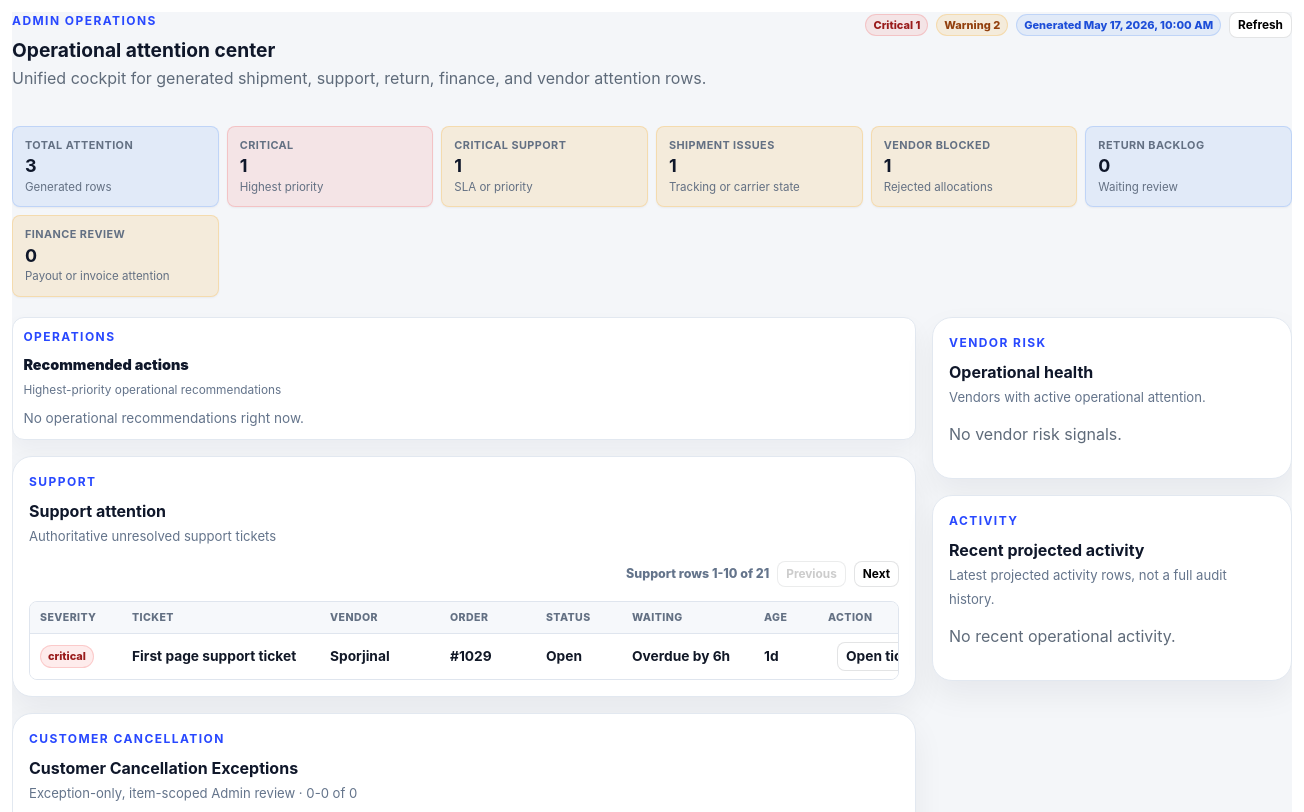
AdminOperationsQueuePage attention center › pages Support attention with server offsets and keeps resolved tickets out of the table
Check: the text "First page support ticket" is shown, box top-left (132, 648), bottom-right (322, 665)
Check: the element "Support attention" is shown, box top-left (12, 456), bottom-right (916, 697)
Click the button "Next" at (876, 574), box top-left (854, 561), bottom-right (899, 587)
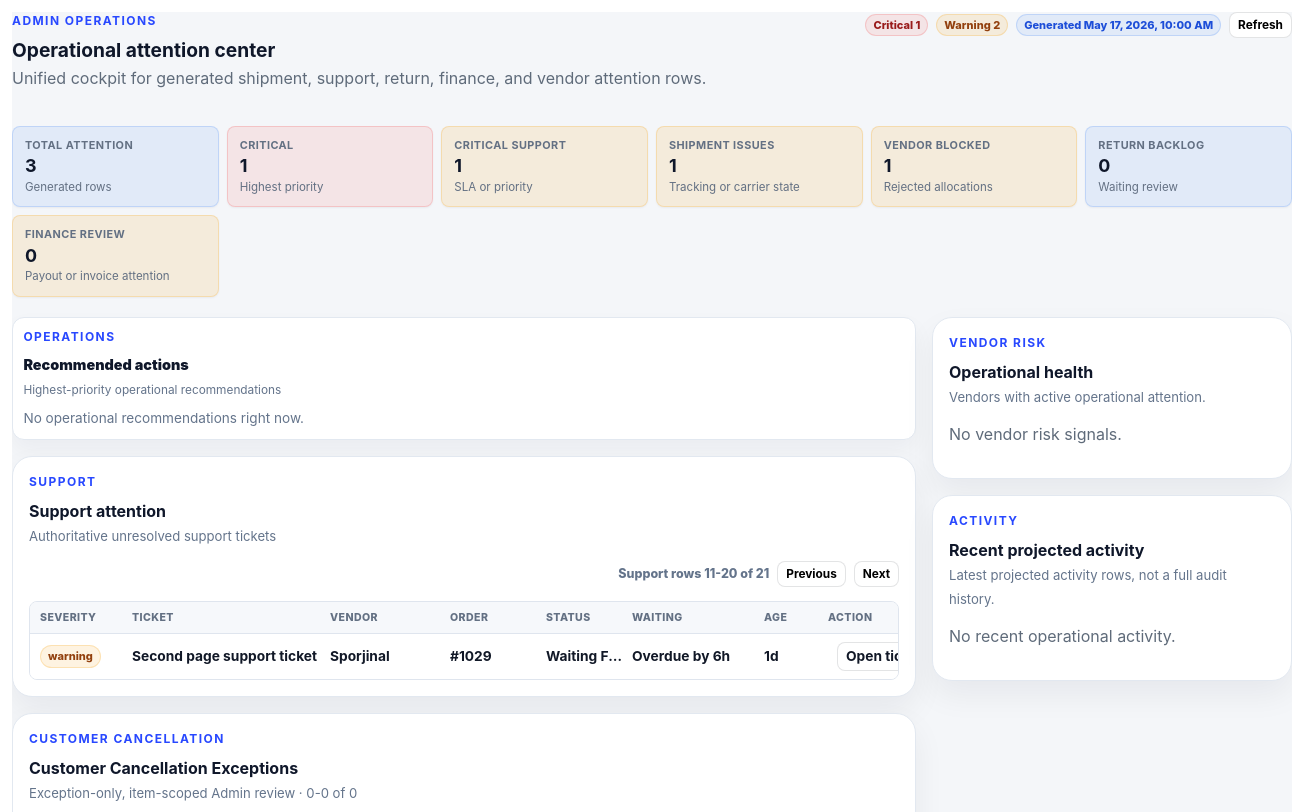
Check: the text "Second page support ticket" is shown, box top-left (132, 648), bottom-right (322, 665)
Check: the text "Support rows 11-20 of 21" is shown, box top-left (618, 565), bottom-right (769, 584)
